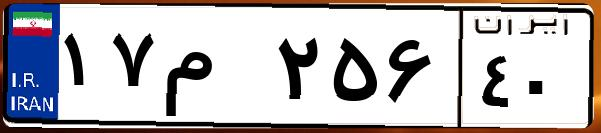0: (525, 38, 570, 115)
1: (57, 26, 110, 100)
2: (270, 28, 330, 110)
4: (475, 38, 525, 113)
5: (330, 28, 385, 110)
6: (385, 28, 445, 110)
7: (110, 28, 158, 98)
م: (158, 20, 270, 120)
